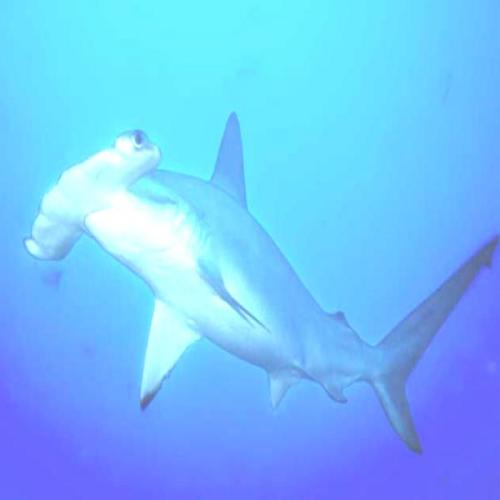shark-endangered: (26, 111, 498, 454)
